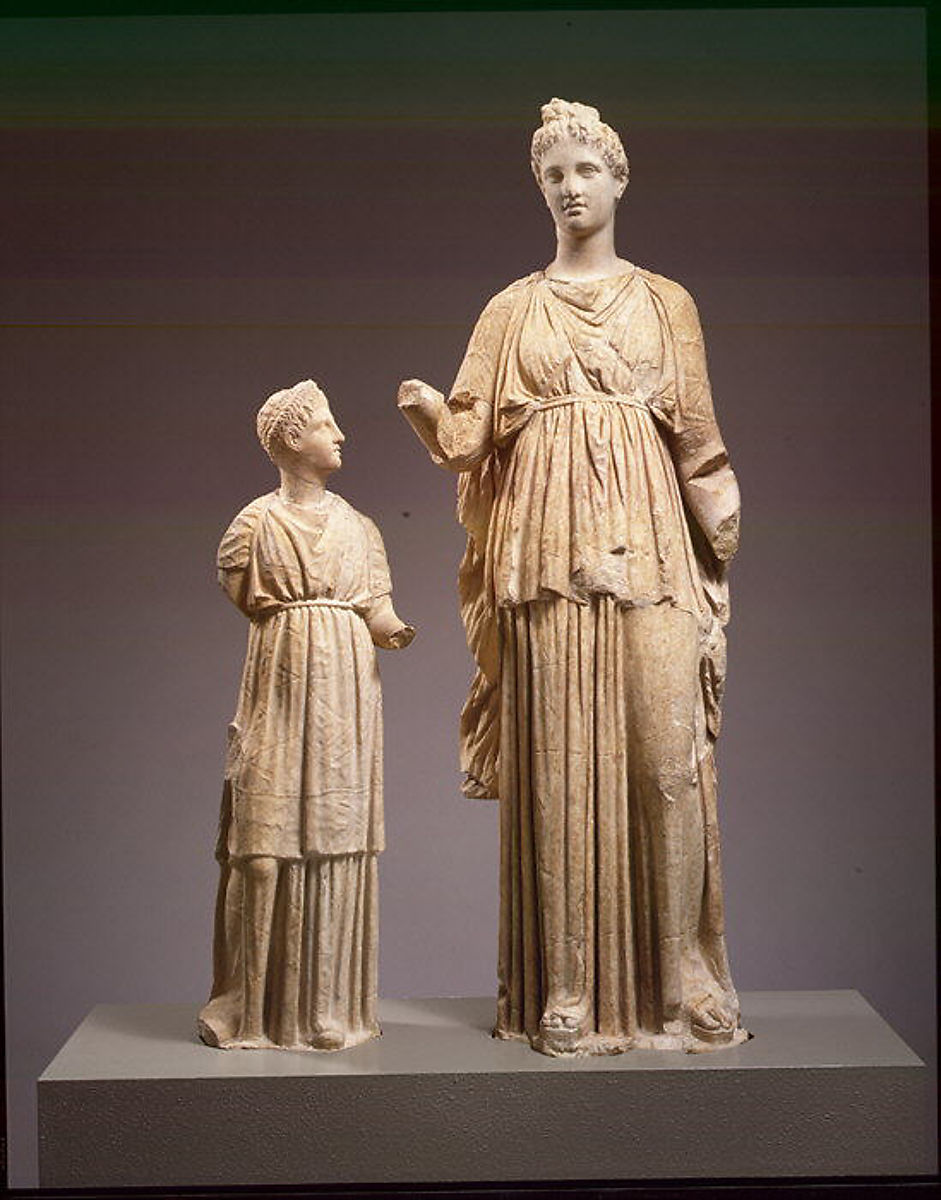person: (393, 85, 755, 1067), (199, 371, 418, 1059)
